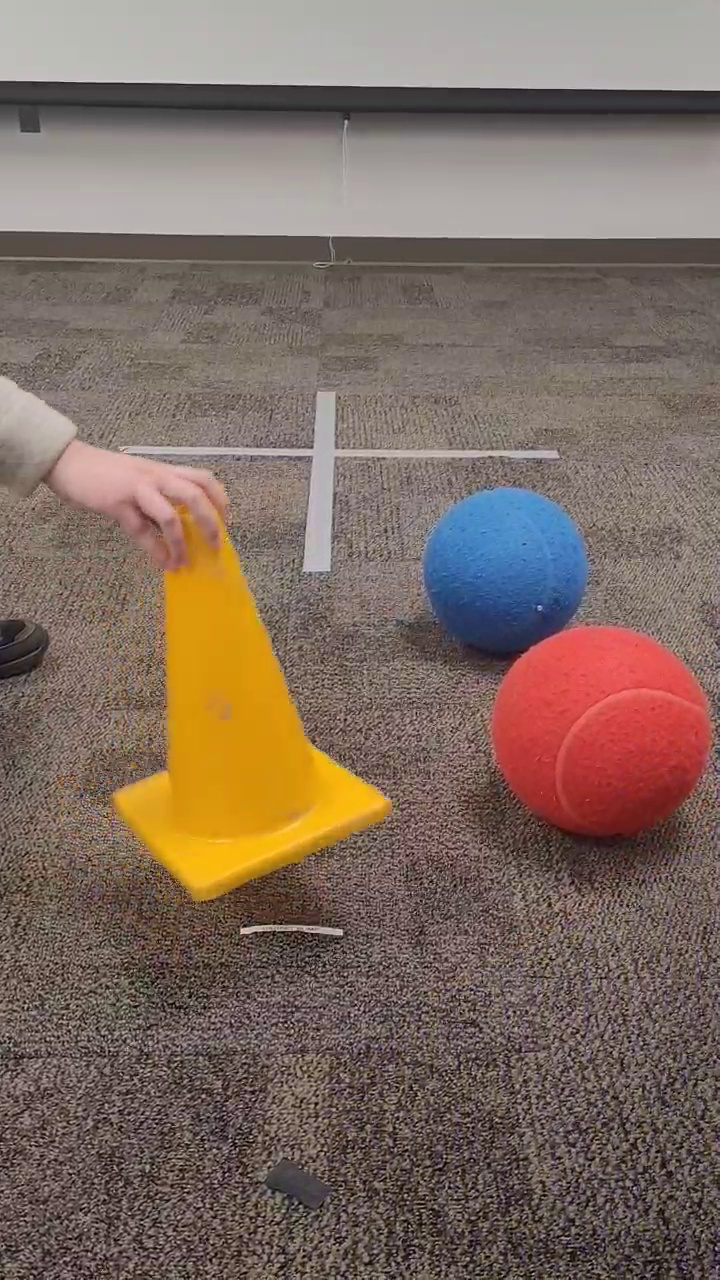ball: (487, 620, 715, 846), (419, 482, 591, 660)
cone: (108, 493, 395, 907)
foot: (1, 612, 52, 687)
hand: (1, 369, 230, 573)
